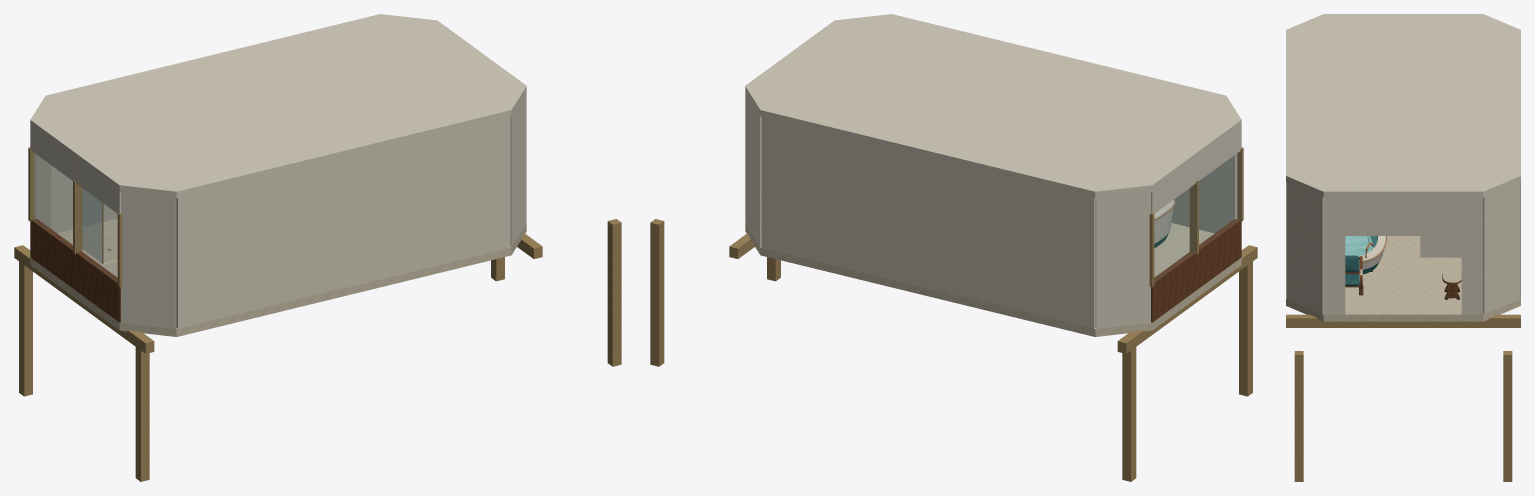
Rendered from D04_STARBOARD_FORWARD_HOME_991_r001.glb.
3 views of the same model, side by side, from view 1: azimuth 30°, elevation 25°; view 2: azimuth 150°, elevation 25°; view 3: azimuth 270°, elevation 25° (orthographic). The views are drawn at different scales.
Visible parts, largest first — view 1: D04SH991_Roof, D04SH991_Shell_3, D04SH991_Shell_4, D04SH991_Floor, D04SH991_GardenGlass, D04SH991_GardenDado, D04SH991_Shell_2, D04SH991_Pier_6, D04SH991_GardenHead, D04SH991_Shell_7, D04SH991_Pier_8, D04SH991_Pier_7 (+5 smaller); view 2: D04SH991_Roof, D04SH991_Shell_7, D04SH991_Shell_6, D04SH991_Floor, D04SH991_GardenGlass, D04SH991_GardenDado, D04SH991_Shell_0, D04SH991_Pier_5, D04SH991_GardenHead, D04SH991_Pier_7, D04SH991_Pier_8, D04SH991_Shell_3 (+3 smaller); view 3: D04SH991_Roof, D04SH991_Floor, D04SH991_EntryHeader, D04SH991_Shell_0, D04SH991_Shell_2, D04SH991_EntryWall_0, D04SH991_EntryWall_1, D04SH991_Long_-41.650000000000006, D04SH991_Pier_5, D04SH991_Pier_6, D04SH991_BathDogleg, D04SH991_ReservedAquaticRest_1__WaterSurface_VisualOnly (+2 smaller).
Part boxes in pixels (x1,y1,x2,y2): D04SH991_Roof: [30, 14, 526, 198]; D04SH991_Shell_3: [176, 117, 510, 328]; D04SH991_Shell_4: [121, 192, 176, 328]; D04SH991_Floor: [30, 219, 526, 336]; D04SH991_GardenGlass: [35, 156, 117, 279]; D04SH991_GardenDado: [30, 219, 120, 322]; D04SH991_Shell_2: [510, 94, 526, 246]; D04SH991_Pier_6: [607, 219, 621, 366]; D04SH991_GardenHead: [30, 127, 120, 213]; D04SH991_Shell_7: [51, 165, 117, 233]; D04SH991_Pier_8: [135, 334, 149, 481]; D04SH991_Pier_7: [19, 251, 32, 396]; D04SH991_Roof: [745, 14, 1241, 198]; D04SH991_Shell_7: [761, 117, 1095, 328]; D04SH991_Shell_6: [1095, 192, 1150, 328]; D04SH991_Floor: [745, 223, 1241, 336]; D04SH991_GardenGlass: [1154, 156, 1237, 280]; D04SH991_GardenDado: [1151, 219, 1241, 322]; D04SH991_Shell_0: [745, 94, 761, 246]; D04SH991_Pier_5: [650, 219, 664, 366]; D04SH991_GardenHead: [1151, 127, 1241, 213]; D04SH991_Pier_7: [1122, 334, 1136, 481]; D04SH991_Pier_8: [1239, 251, 1252, 396]; D04SH991_Shell_3: [1171, 165, 1220, 233]; D04SH991_Roof: [1286, 14, 1520, 197]; D04SH991_Floor: [1286, 236, 1520, 321]; D04SH991_EntryHeader: [1345, 197, 1461, 235]; D04SH991_Shell_0: [1483, 182, 1519, 314]; D04SH991_Shell_2: [1287, 182, 1323, 314]; D04SH991_EntryWall_0: [1461, 197, 1483, 314]; D04SH991_EntryWall_1: [1323, 197, 1345, 314]; D04SH991_Long_-41.650000000000006: [1286, 314, 1520, 327]; D04SH991_Pier_5: [1503, 351, 1512, 481]; D04SH991_Pier_6: [1294, 351, 1303, 481]; D04SH991_BathDogleg: [1420, 236, 1461, 257]; D04SH991_ReservedAquaticRest_1__WaterSurface_VisualOnly: [1345, 236, 1376, 255].
Bounding box in the file's own units: 15.41 × 8.66 × 7.2.
51 materials, 21 textured.
